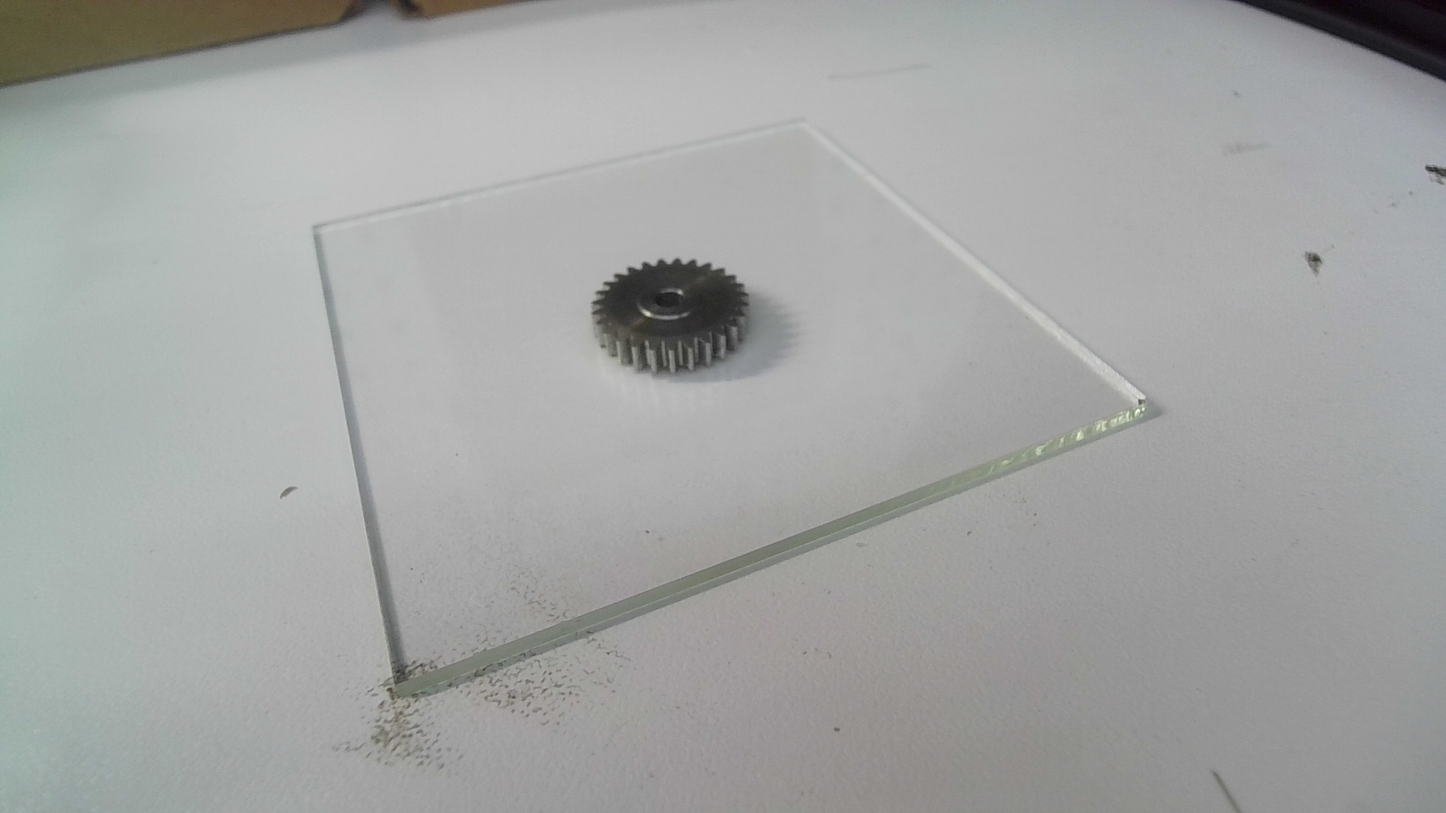gear: (587, 253, 753, 377)
